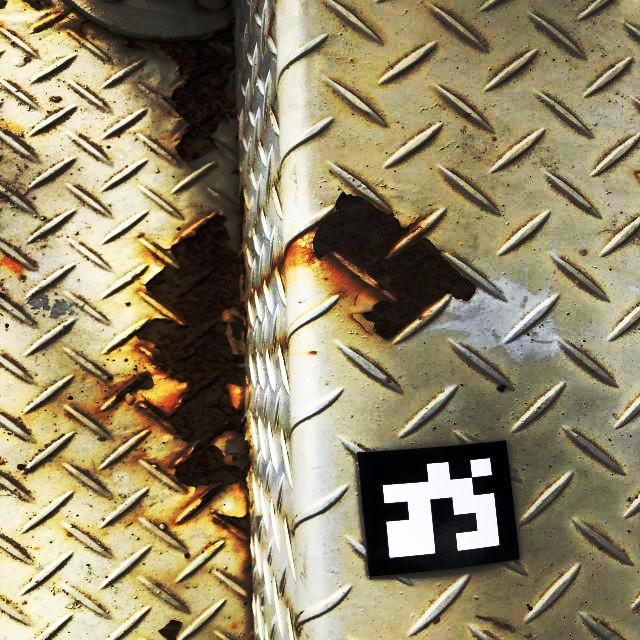Corrosion: (115, 192, 252, 544), (309, 185, 479, 341), (123, 25, 236, 162), (75, 14, 96, 39), (18, 0, 55, 9)
